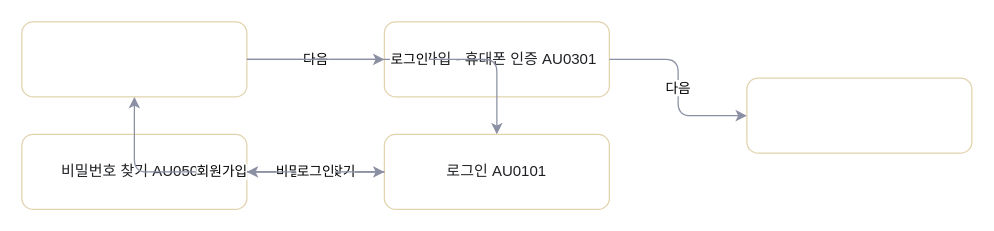
Some shapes in this 994 by 231 pixel diagram are drawn without their labels. The centre of each missing label's shape, as x and y in pixels:
회원가입 AU0201: pixel 134 59
회원가입 완료 AU0401: pixel 859 115
